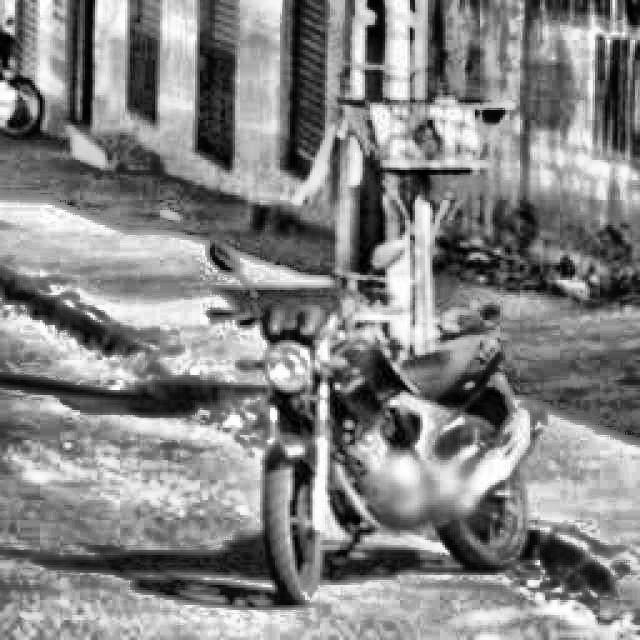motorcycle: (193, 234, 570, 610)
